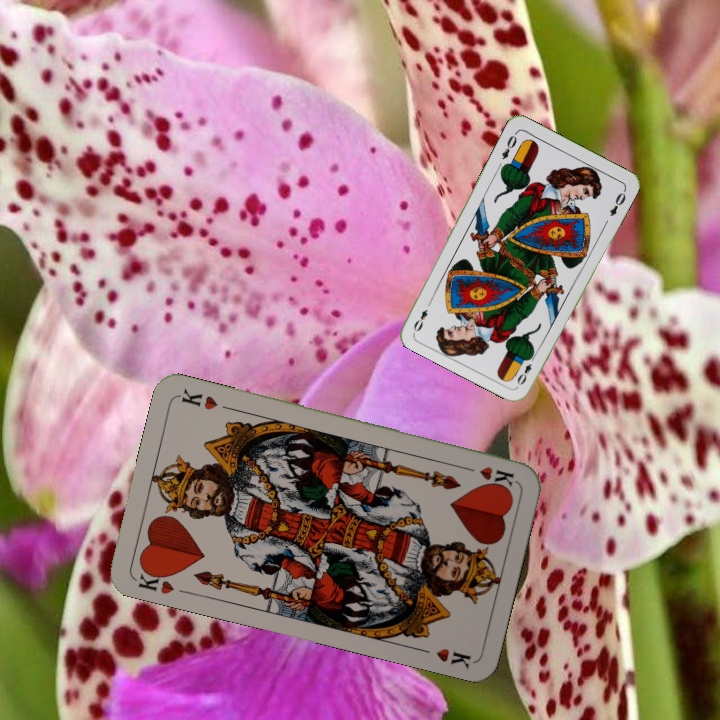EO: (513, 350, 539, 388), (498, 128, 519, 162)
HK: (459, 462, 517, 491), (132, 563, 177, 597)
